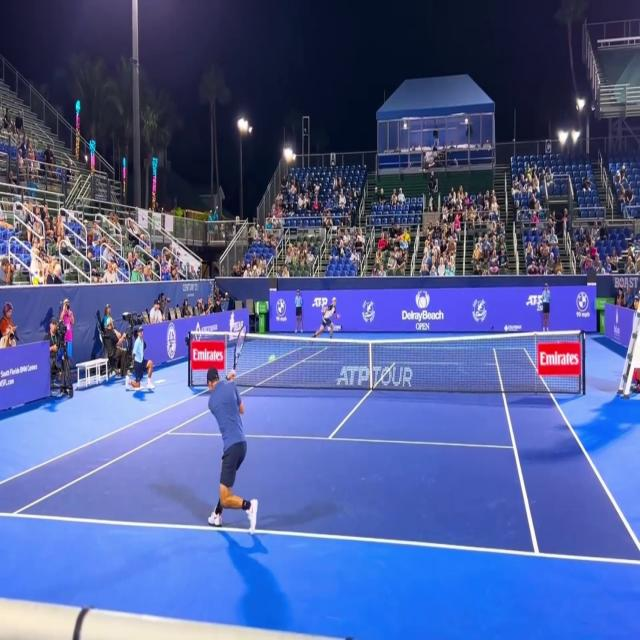tennisBall: (268, 346, 279, 371)
